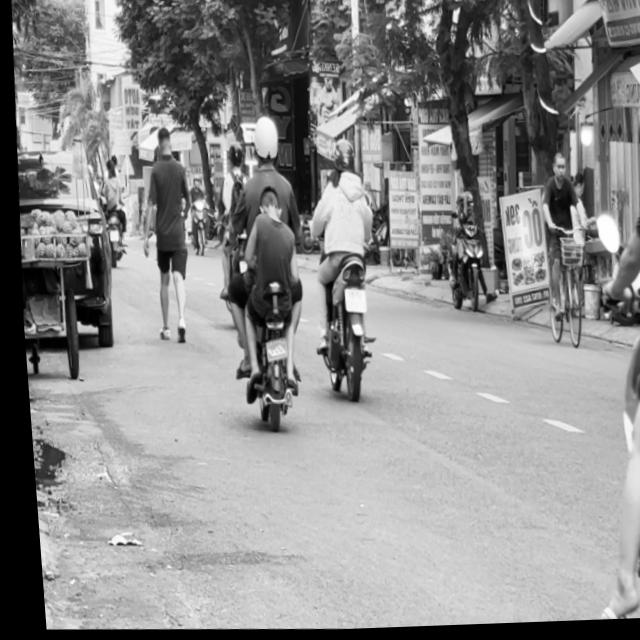helmet: (247, 114, 280, 168), (330, 139, 356, 178)
licenseplate: (207, 111, 315, 436), (296, 135, 385, 402)
motorcyclist: (254, 185, 282, 226)
nohelmet: (339, 290, 362, 315)
